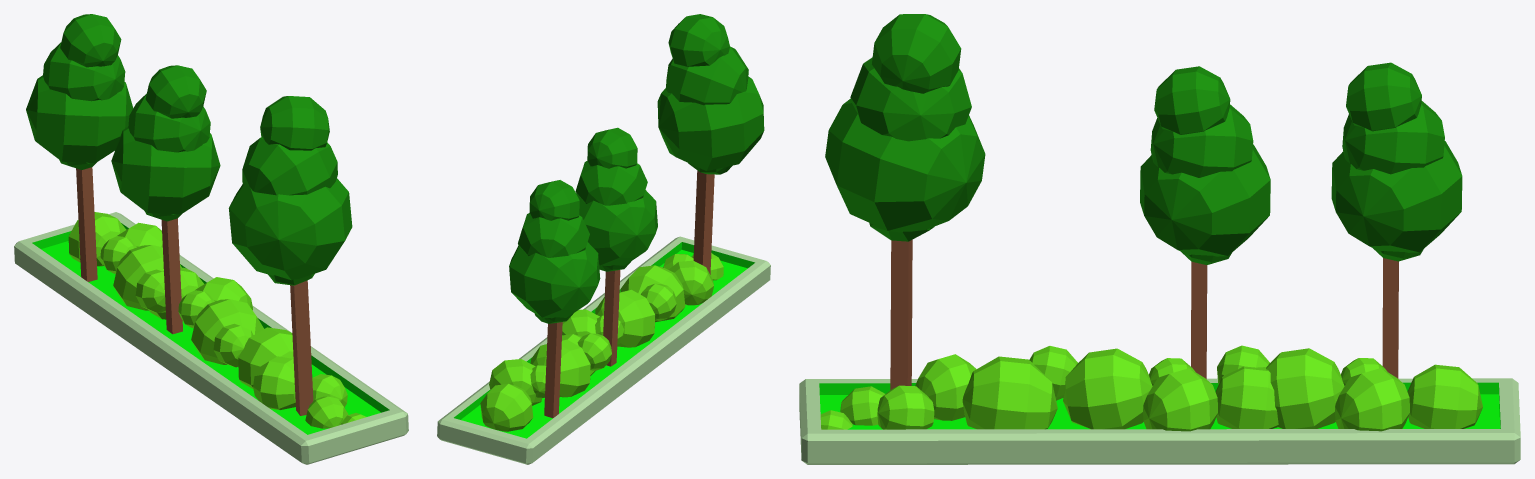
The model's file is flowerbed.glb.
The picture shows the model from 3 angles, left to right: view 1: azimuth 30°, elevation 25°; view 2: azimuth 150°, elevation 25°; view 3: azimuth 270°, elevation 25°; orthographic projection. The views are drawn at different scales.
Parts seen in each view (by area): view 1: Tree_3_2; view 2: Tree_3_2; view 3: Tree_3_2.
Part boxes in pixels (x1,y1,x2,y2): Tree_3_2: (14, 14, 408, 464); Tree_3_2: (437, 14, 770, 464); Tree_3_2: (799, 14, 1520, 464).
Size of the model in its own units: 0.9925 by 2.22 by 3.45.
